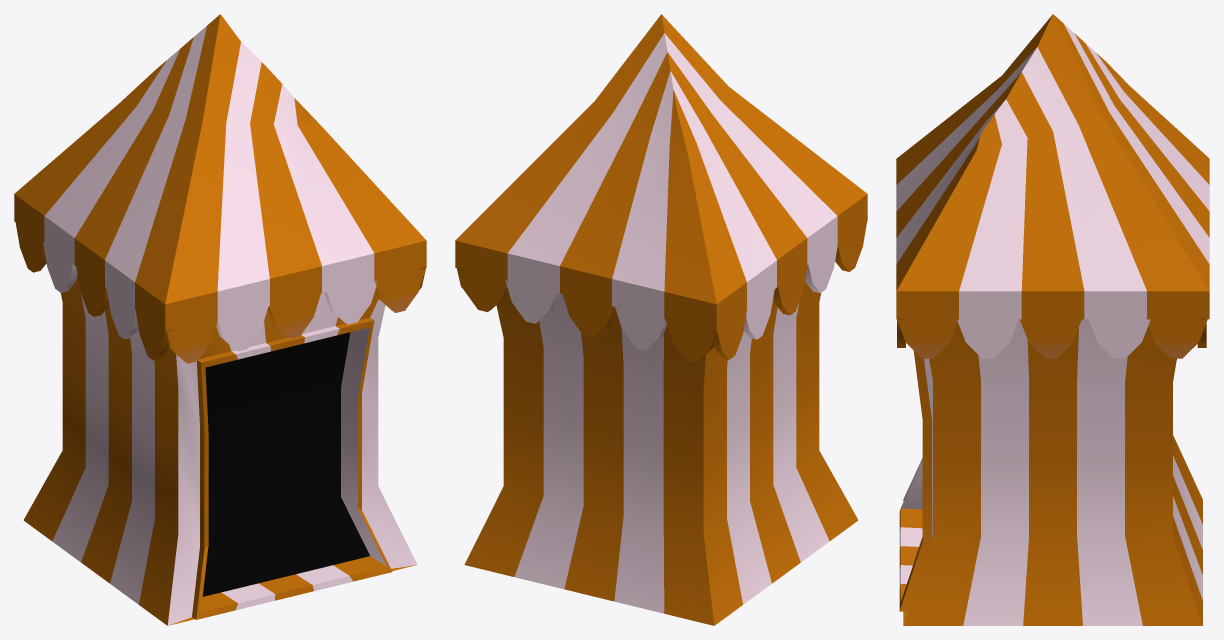
Rendered from BarracaLaranja.fbx.
3 renders of one model, left to right at view 1: azimuth 30°, elevation 25°; view 2: azimuth 150°, elevation 25°; view 3: azimuth 270°, elevation 25°, orthographic. The views are drawn at different scales.
Parts seen in each view (by area): view 1: Barracalaranja; view 2: Barracalaranja; view 3: Barracalaranja.
Boxes of the visible parts, x1,y1,x2,y2 form: Barracalaranja: (14, 14, 426, 625); Barracalaranja: (455, 14, 867, 625); Barracalaranja: (896, 14, 1209, 625).
Size of the model in its own units: 237 by 458 by 237.
1 material, 1 textured.
